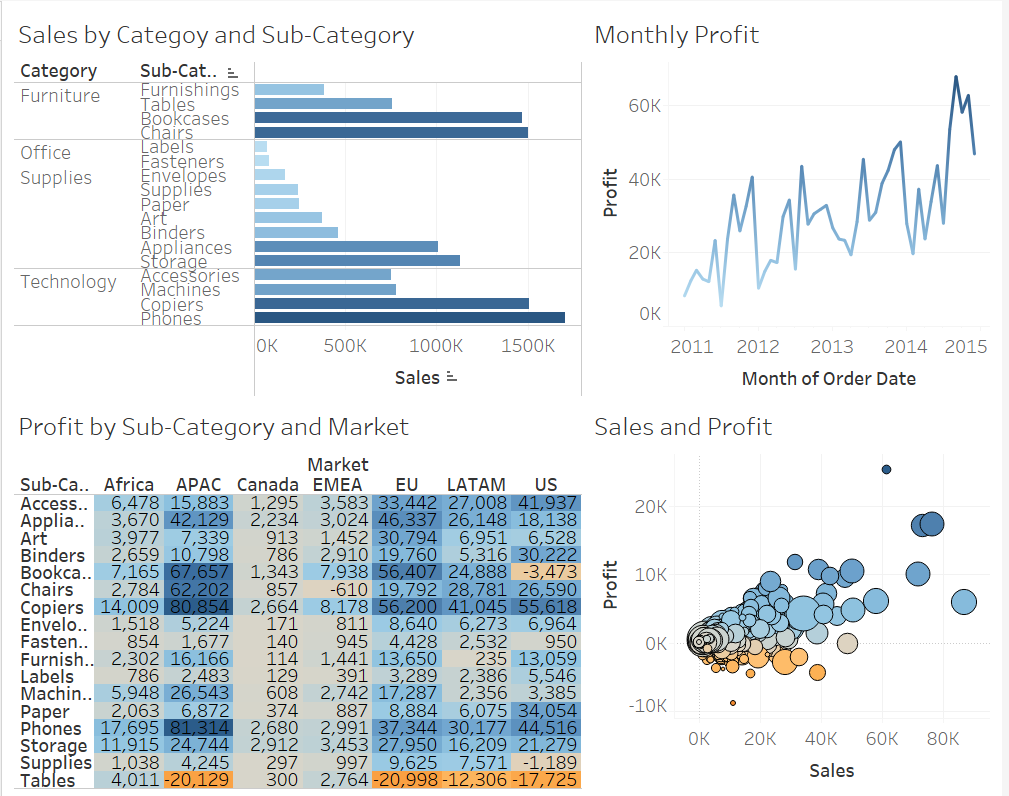

The dashboard page shown, as its layout file describes it:
{"tool":"tableau","page":{"name":"Sales_Profit_Dashboard","canvas":[1000,800],"ordinal":0},"visuals":[{"type":"worksheet","title":"Barchart","mark":"Automatic","rows":["Category","Sub-Category"],"cols":["Sales"],"box":[8,8,576,391.9]},{"type":"worksheet","title":"LineChart","mark":"Automatic","rows":["Profit"],"cols":["Order Date"],"box":[584,8,408,392]},{"type":"worksheet","title":"HighlightTable","mark":"Square","rows":["Sub-Category"],"cols":["Market"],"box":[8,400,576,392]},{"type":"worksheet","title":"ScatterPlot","mark":"Circle","rows":["Profit"],"cols":["Sales"],"box":[584,400,408,392]}]}

Visuals, with their boxes in screenshot pixels (x1, y1, x2, y2), scaled from the page's 1000x800 canvas onto the 1009x796 screenshot:
"Barchart" worksheet: [x1=8, y1=8, x2=589, y2=398]
"LineChart" worksheet: [x1=589, y1=8, x2=1001, y2=398]
"HighlightTable" worksheet (Square marks): [x1=8, y1=398, x2=589, y2=788]
"ScatterPlot" worksheet (Circle marks): [x1=589, y1=398, x2=1001, y2=788]
